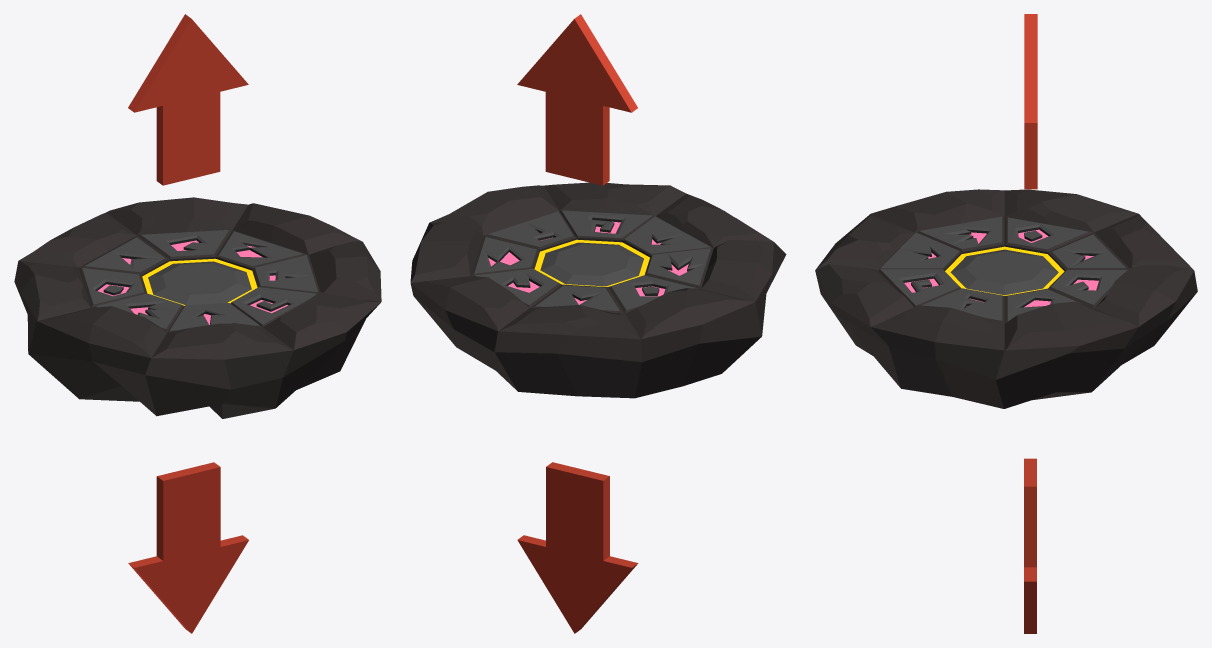
The model's file is Vertical_Platform_Fantasy_Alt.glb.
3 views of the same model, side by side, from view 1: azimuth 30°, elevation 25°; view 2: azimuth 150°, elevation 25°; view 3: azimuth 270°, elevation 25° (orthographic).
Visible parts, largest first — view 1: Fantasy_Platform_02, Plane, Plane.001; view 2: Fantasy_Platform_02, Plane.001, Plane; view 3: Fantasy_Platform_02, Plane.001, Plane.
Boxes of the visible parts, left/top/right/bottom form: Fantasy_Platform_02: left=14, top=197, right=381, bottom=418; Plane: left=128, top=462, right=248, bottom=633; Plane.001: left=128, top=14, right=248, bottom=185; Fantasy_Platform_02: left=410, top=182, right=786, bottom=398; Plane.001: left=517, top=14, right=637, bottom=185; Plane: left=517, top=462, right=638, bottom=633; Fantasy_Platform_02: left=815, top=189, right=1197, bottom=408; Plane.001: left=1024, top=14, right=1037, bottom=189; Plane: left=1024, top=458, right=1036, bottom=633.
Size of the model in its own units: 2.07 by 3.55 by 1.99.
Materials: 2 (2 with a texture image).
